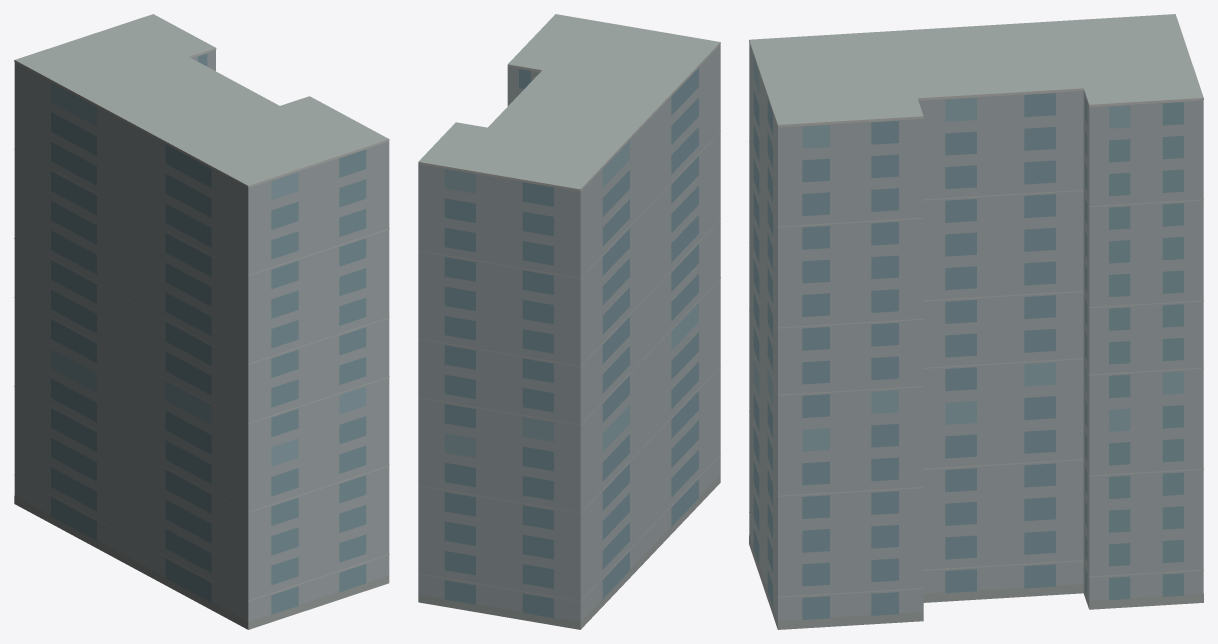
File: residential-8824251c-13b7-45c6-8bd8-a0e99f5fb587.glb
3 views of the same model, side by side, from view 1: azimuth 30°, elevation 25°; view 2: azimuth 150°, elevation 25°; view 3: azimuth 270°, elevation 25° (orthographic). The views are drawn at different scales.
Parts seen in each view (by area): view 1: residential-8824251c-13b7-45c6-8bd8-a0e99f5fb587.tmp; view 2: residential-8824251c-13b7-45c6-8bd8-a0e99f5fb587.tmp; view 3: residential-8824251c-13b7-45c6-8bd8-a0e99f5fb587.tmp.
Part boxes in pixels (<box>): residential-8824251c-13b7-45c6-8bd8-a0e99f5fb587.tmp: <box>14,14,389,629</box>; residential-8824251c-13b7-45c6-8bd8-a0e99f5fb587.tmp: <box>418,14,720,629</box>; residential-8824251c-13b7-45c6-8bd8-a0e99f5fb587.tmp: <box>749,14,1203,629</box>.
Bounding box in the file's own units: 24.12 × 51.1 × 41.73.
